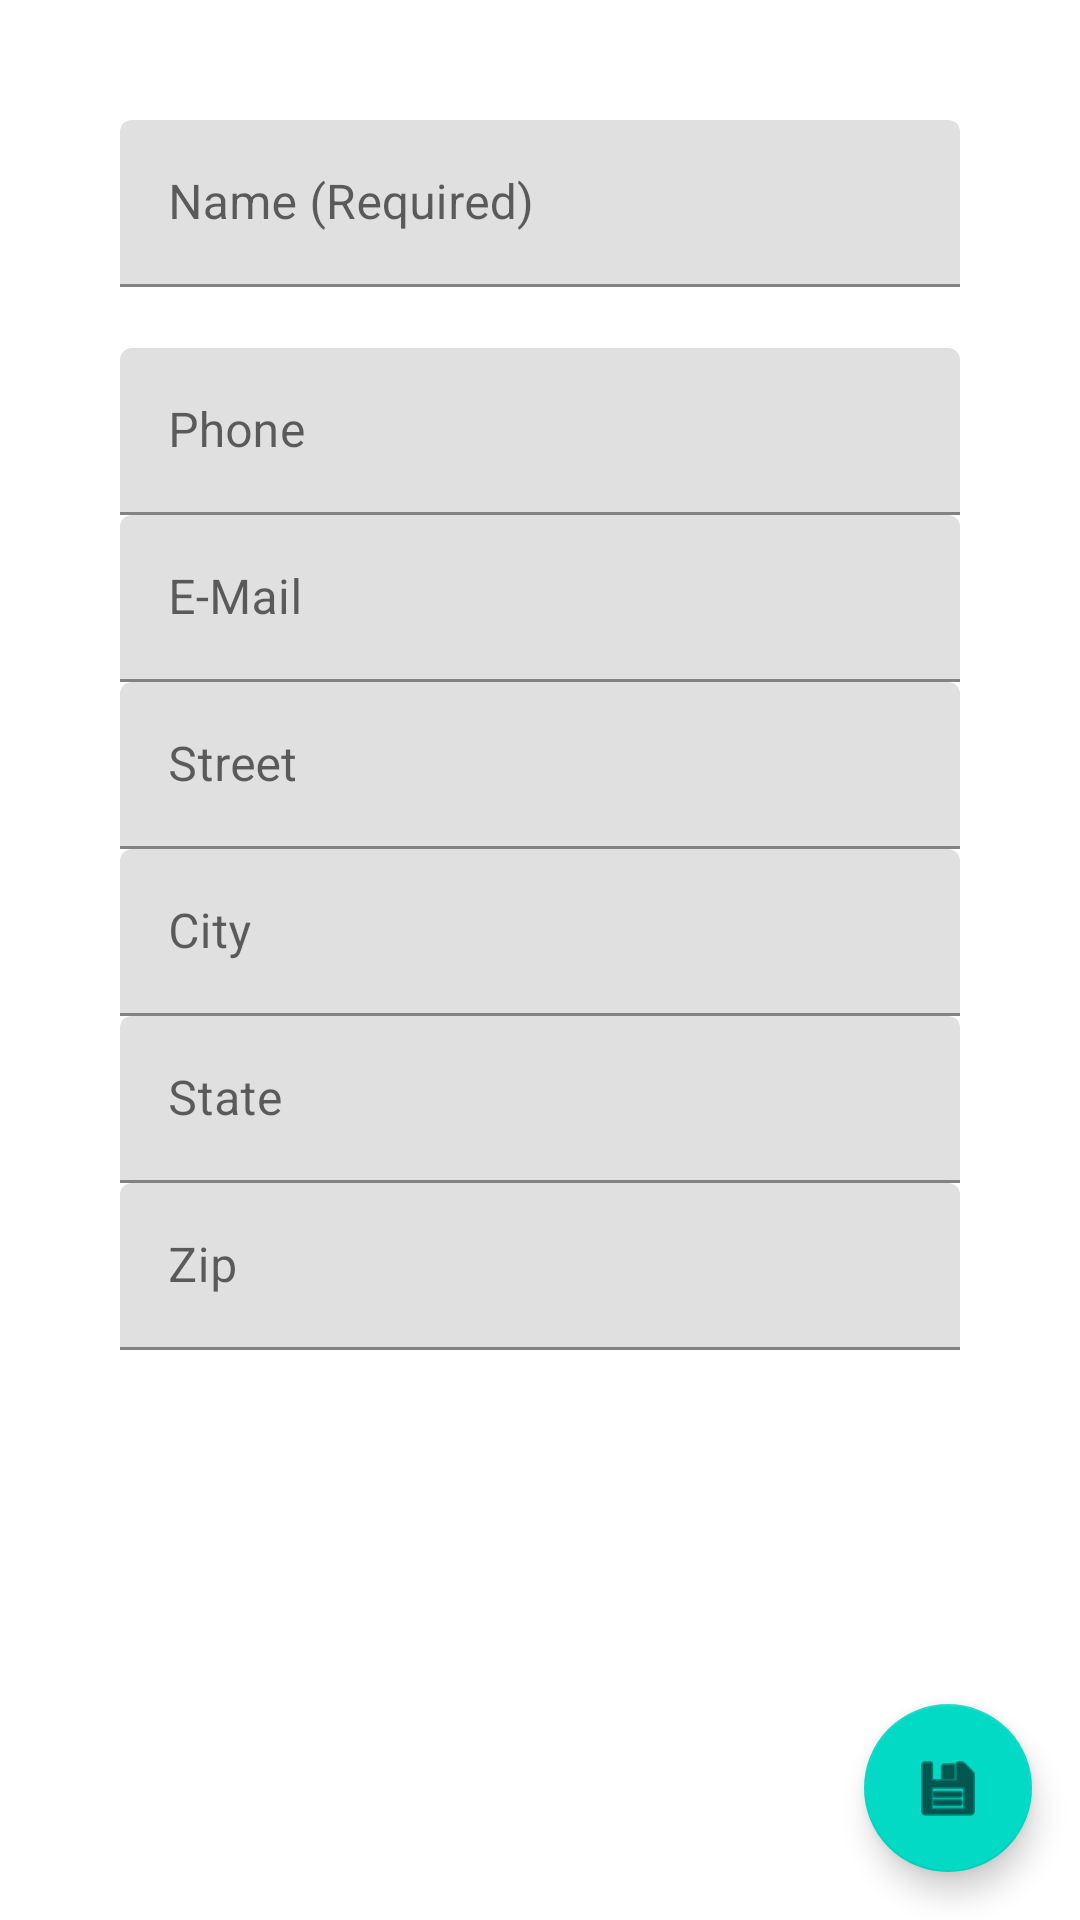

Where icons sit on this 1080x1920 app screen, as box(x1, y1, x2, y2):
save: box(864, 1704, 1032, 1872)
